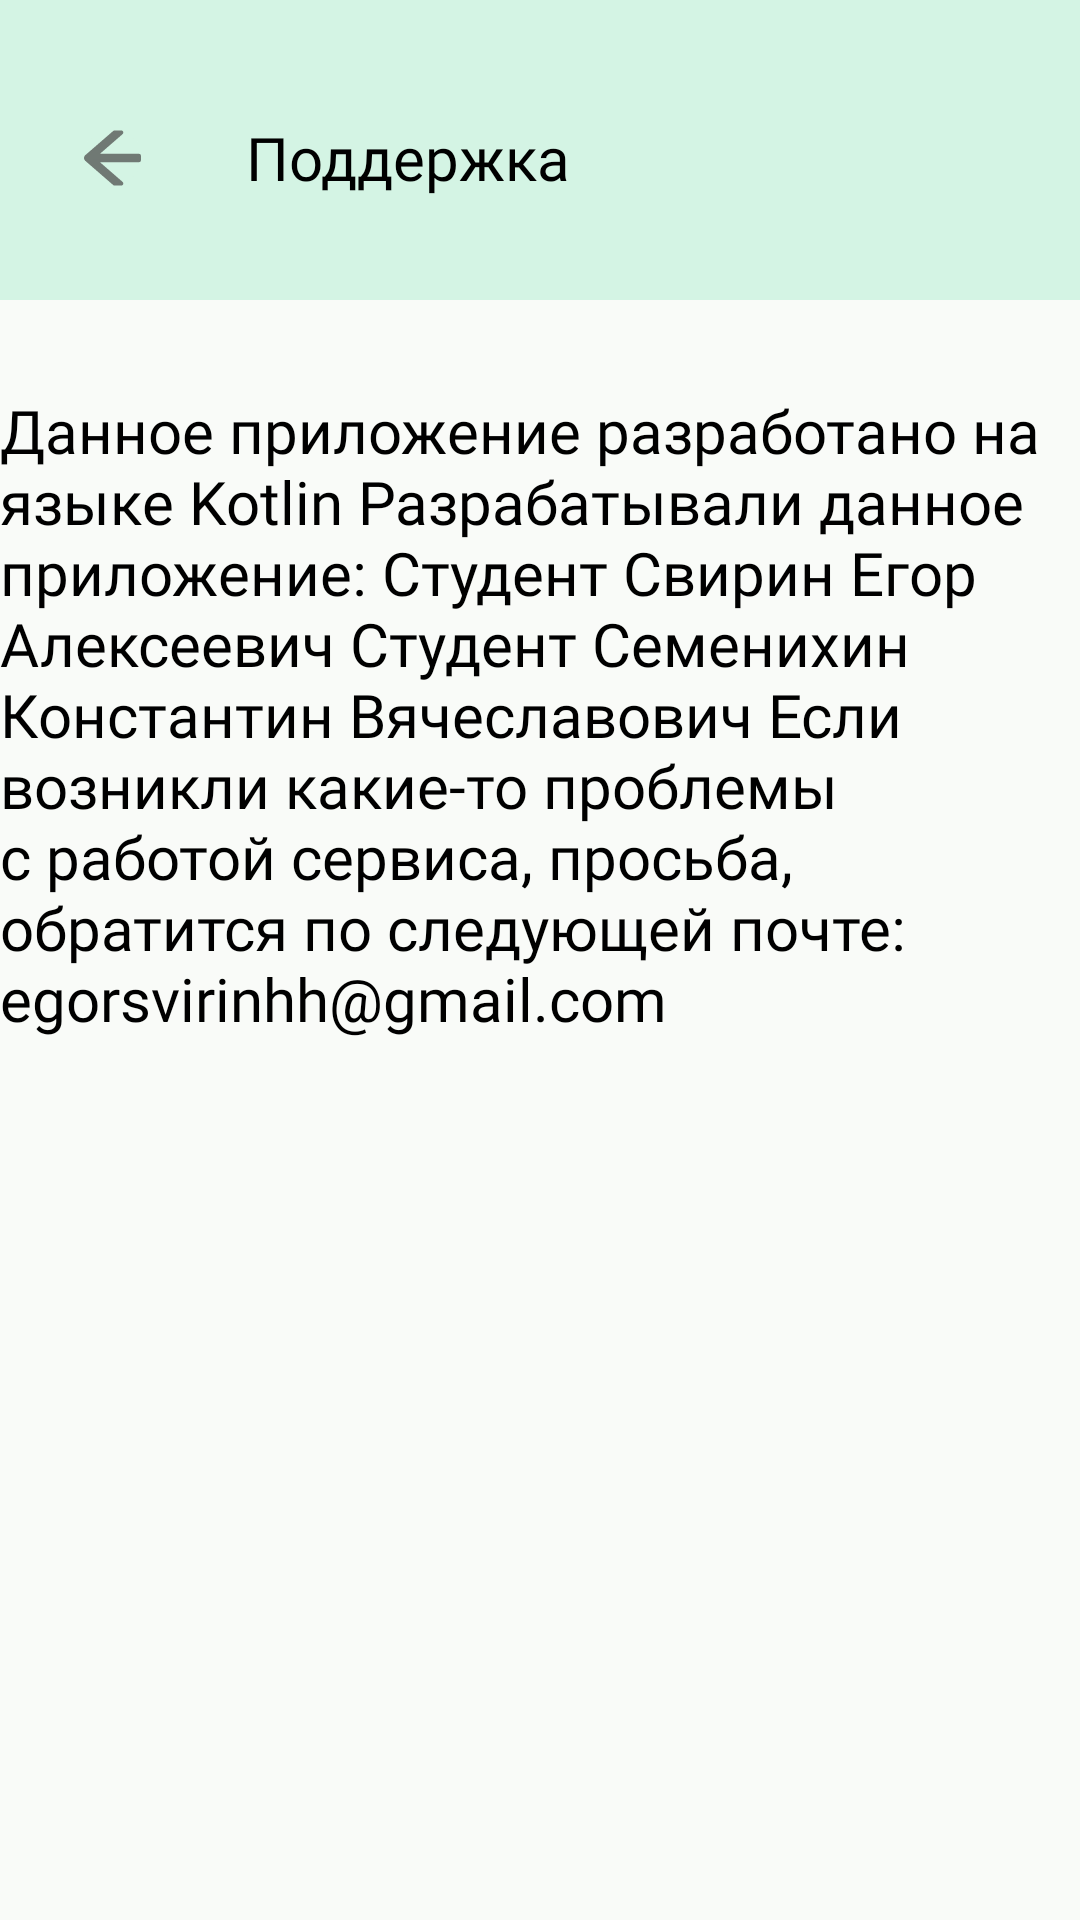

Icons on this 1080x1920 Android screen, each with the point to tap as (x,y):
arrow left: (112,158)
